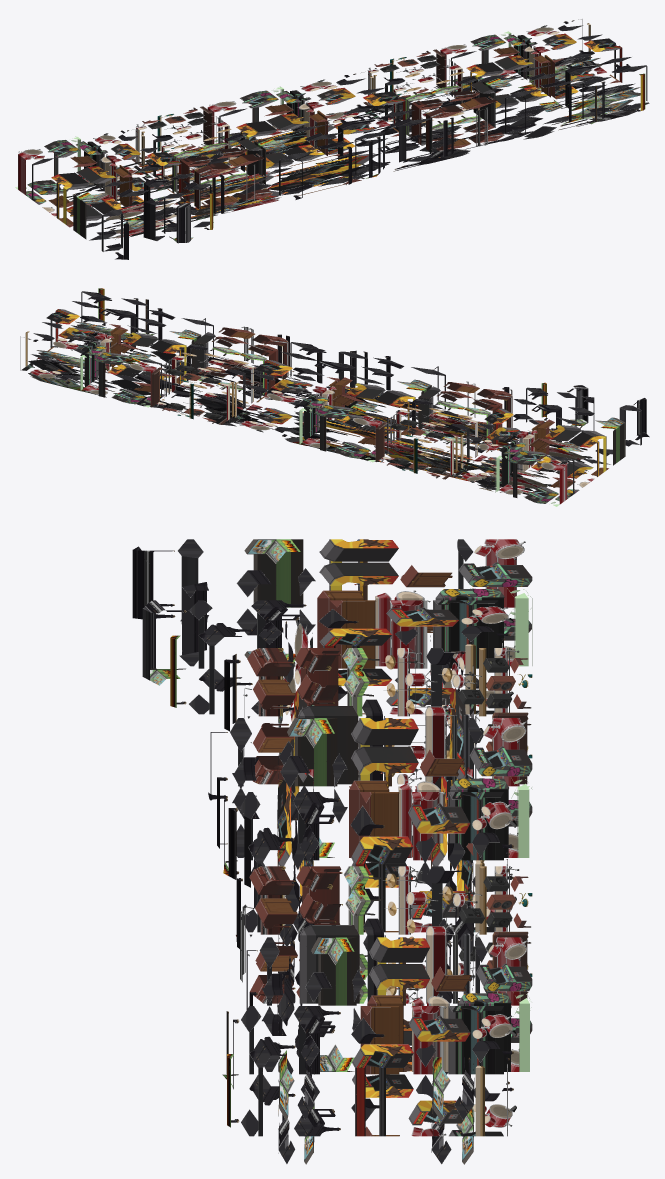
The picture shows the model from 3 angles, top to bottom: view 1: azimuth 30°, elevation 25°; view 2: azimuth 150°, elevation 25°; view 3: azimuth 270°, elevation 25°; orthographic projection. The views are drawn at different scales.
Bounding box in the file's own units: 1 × 0.085 × 0.318.
